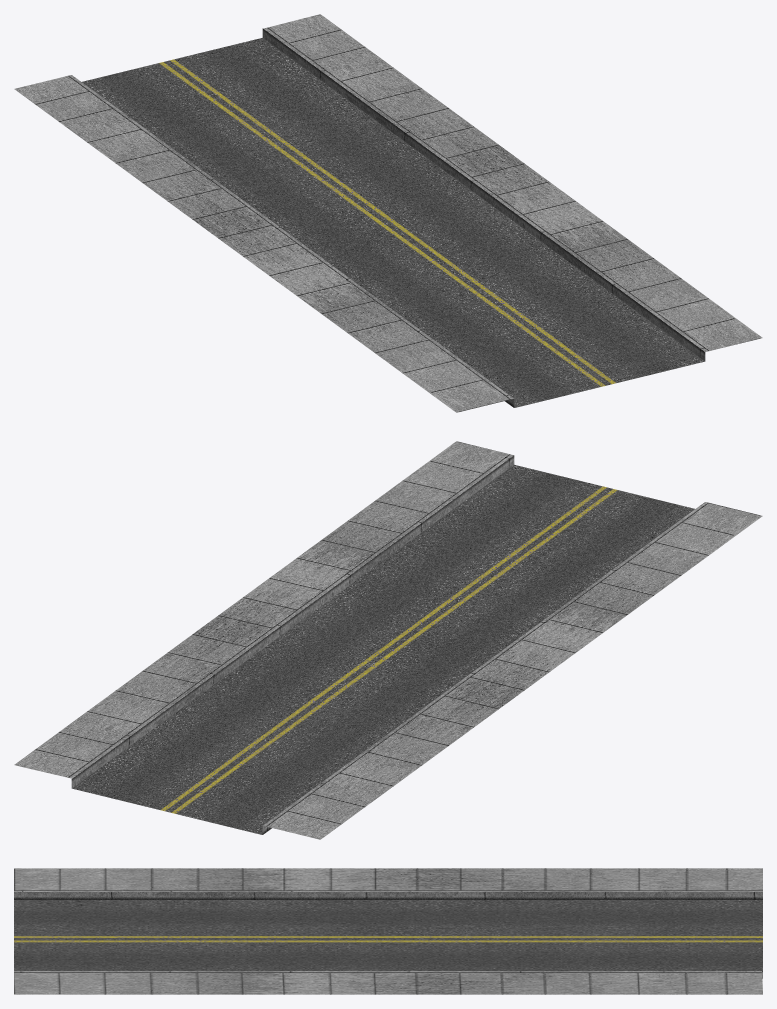
The model's file is Straight.FBX.
The picture shows the model from 3 angles, top to bottom: view 1: azimuth 30°, elevation 25°; view 2: azimuth 150°, elevation 25°; view 3: azimuth 270°, elevation 25°; orthographic projection. The views are drawn at different scales.
Parts seen in each view (by area): view 1: Plane001; view 2: Plane001; view 3: Plane001.
Part boxes in pixels (bbox=[...]): Plane001: bbox=[14, 14, 762, 412]; Plane001: bbox=[14, 441, 762, 839]; Plane001: bbox=[14, 868, 762, 994].
Bounding box in the file's own units: 315 × 9.28 × 787.
1 material, 1 textured.
